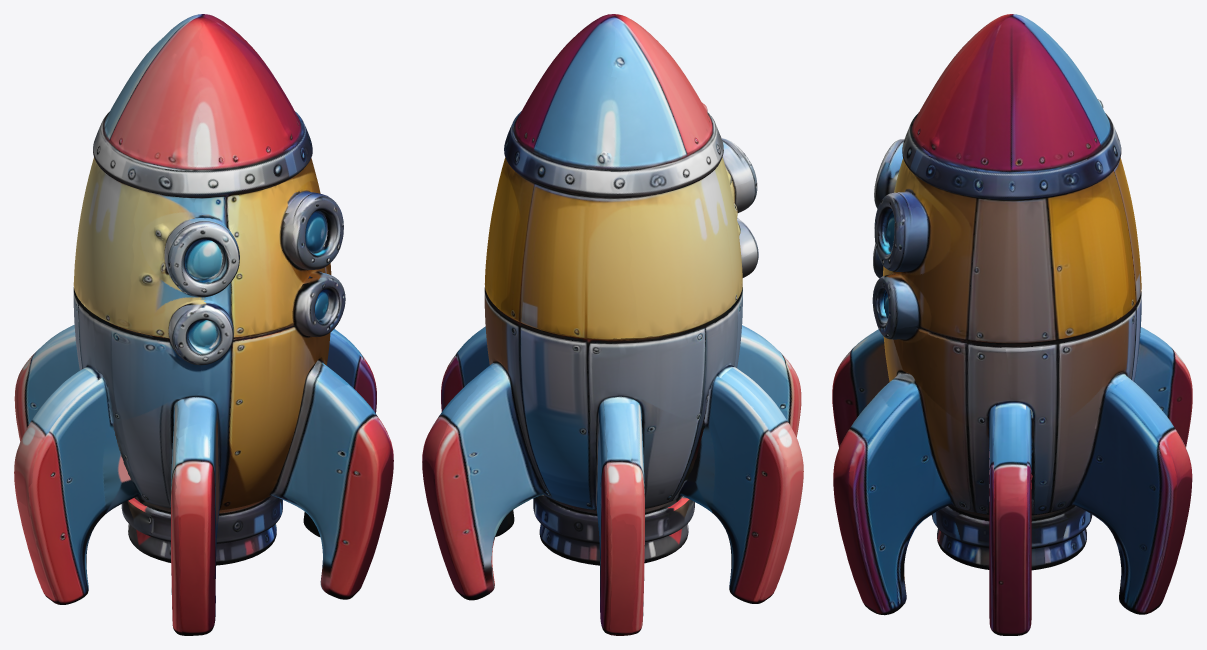
The model's file is rocket.glb.
The picture shows the model from 3 angles, left to right: view 1: azimuth 30°, elevation 25°; view 2: azimuth 150°, elevation 25°; view 3: azimuth 270°, elevation 25°; orthographic projection.
Visible parts, largest first — view 1: Rocket; view 2: Rocket; view 3: Rocket.
Part boxes in pixels (bbox=[...]): Rocket: bbox=[14, 14, 393, 635]; Rocket: bbox=[422, 14, 803, 635]; Rocket: bbox=[832, 14, 1192, 635].
Bounding box in the file's own units: 0.2664 × 0.4 × 0.2349.
Materials: 1 (1 with a texture image).
